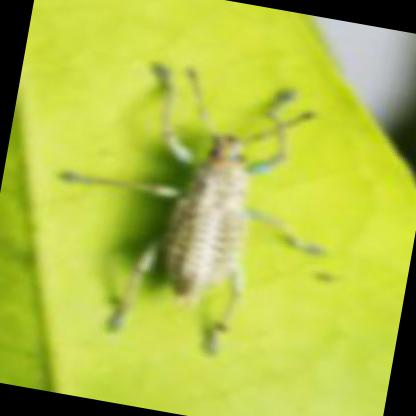ash weevil: (62, 113, 323, 356)
